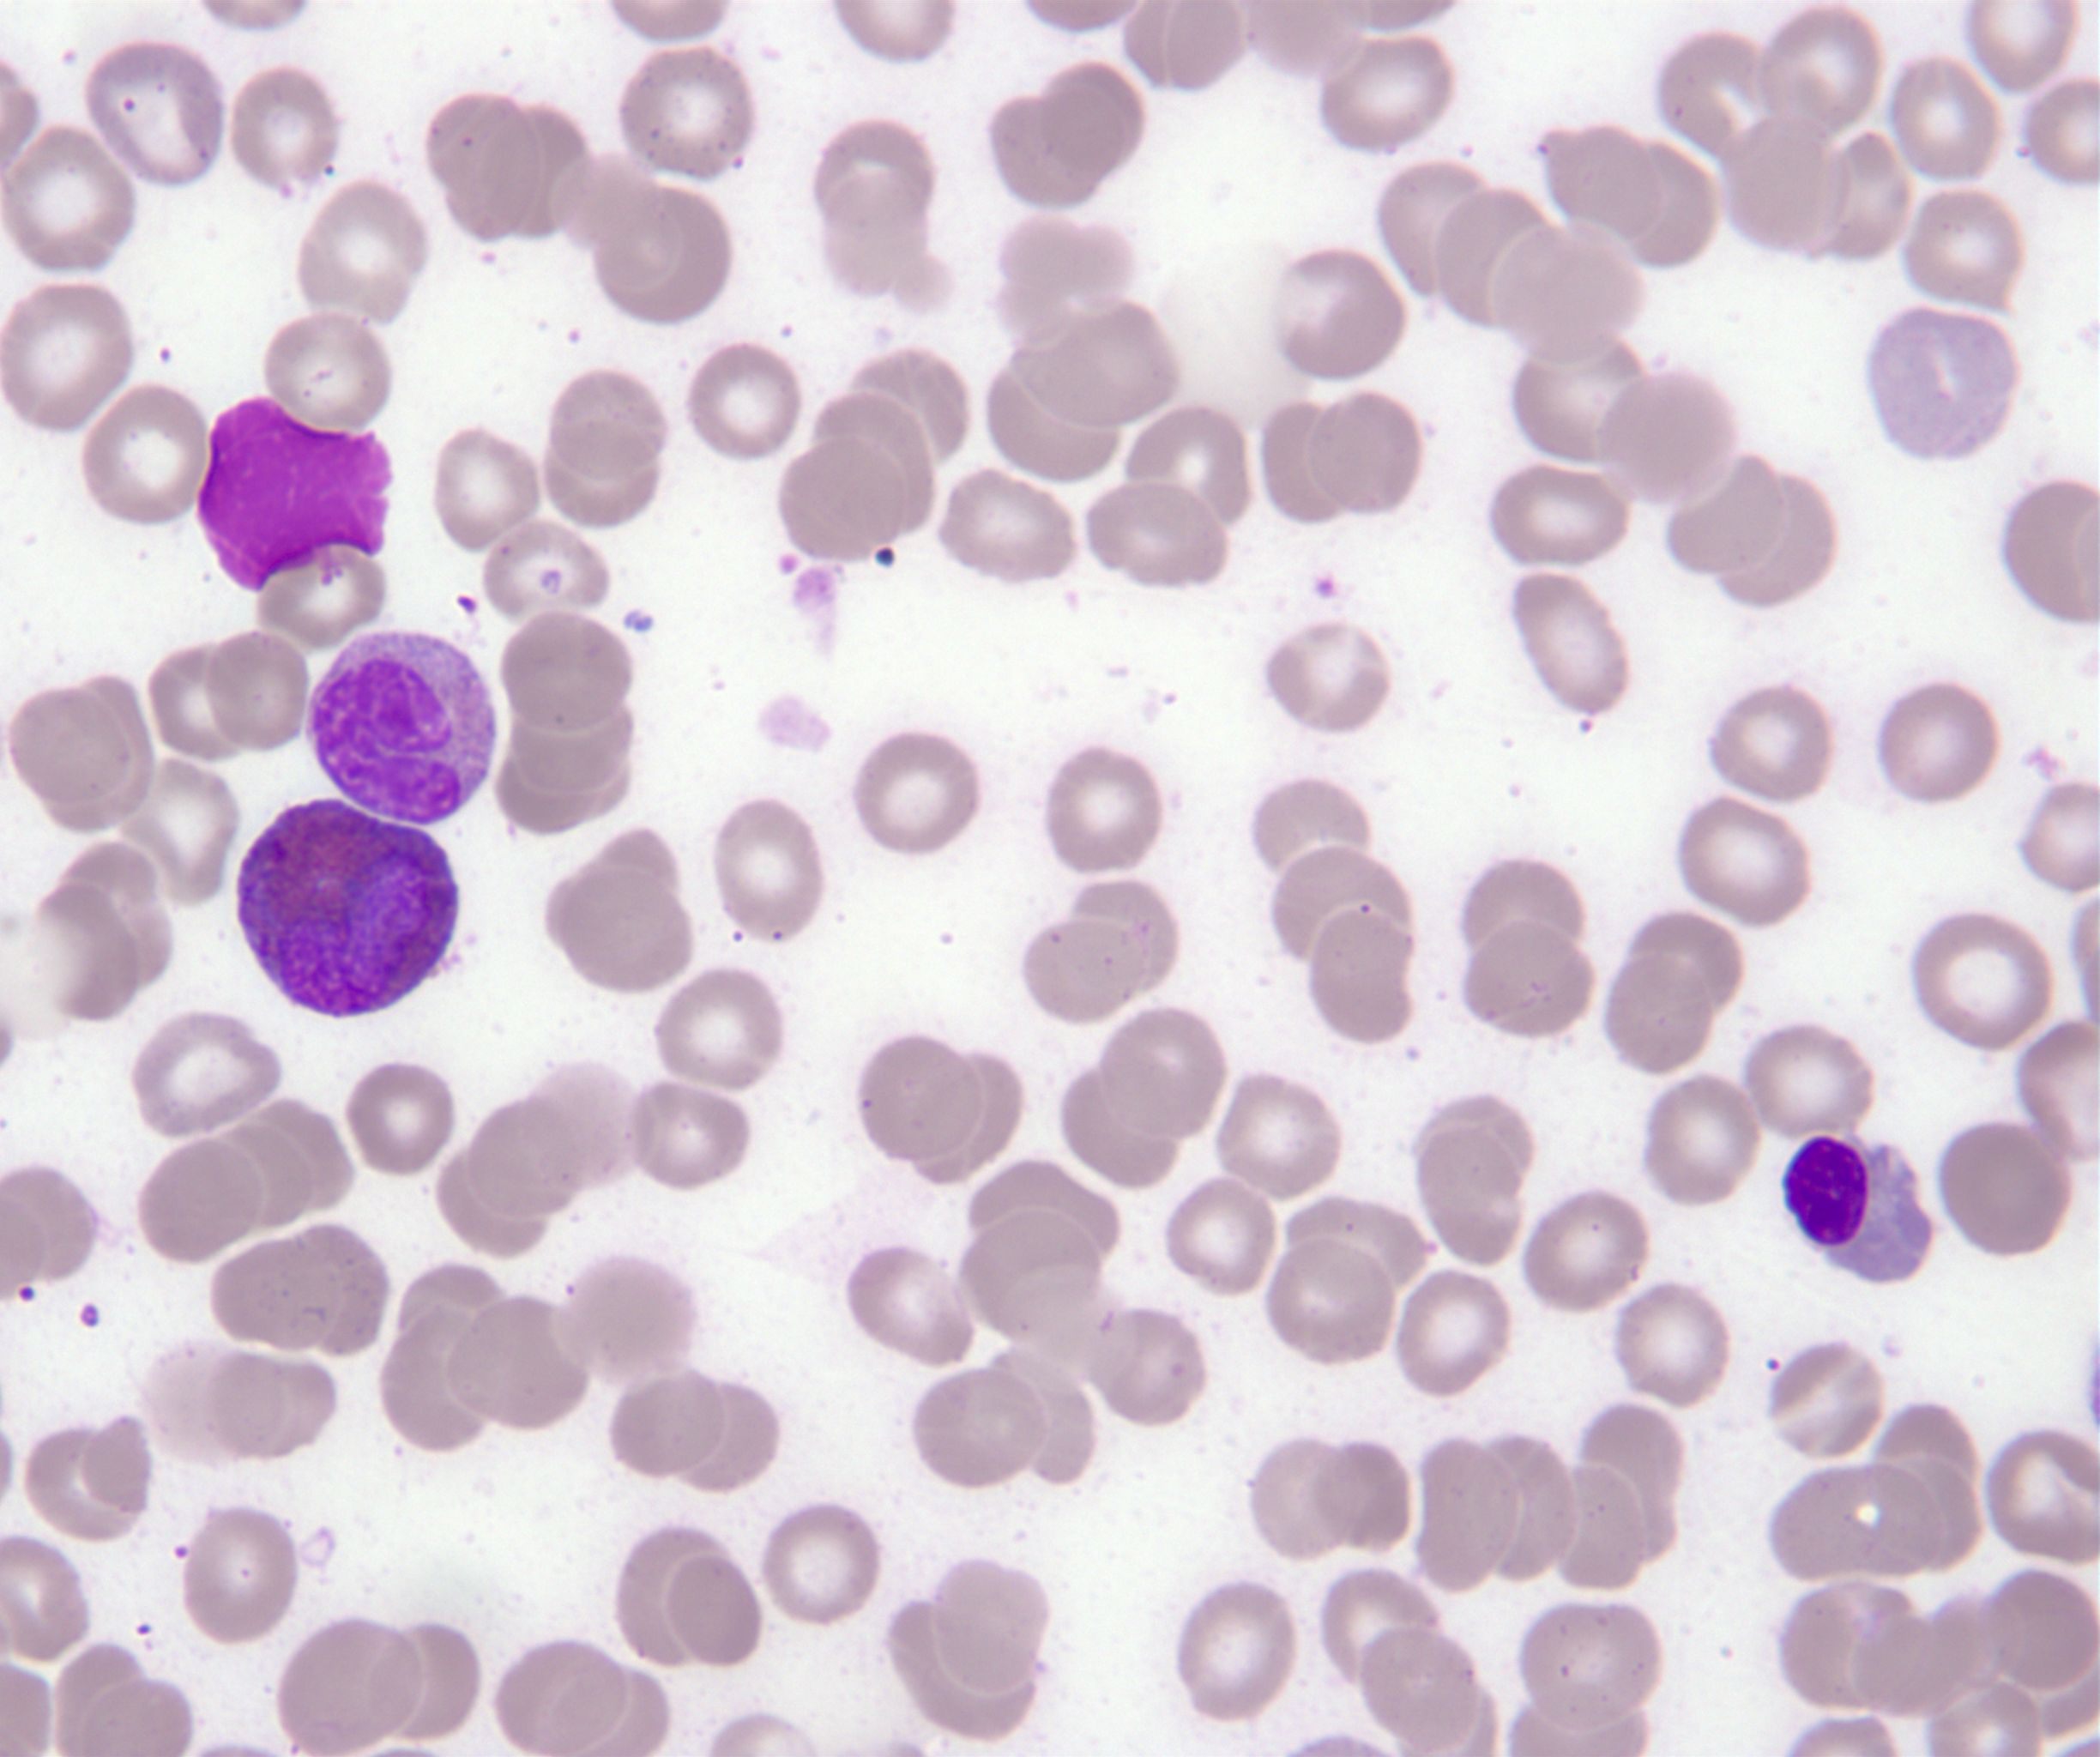24: (1784, 1138, 1933, 1282)
5: (309, 635, 497, 825)
E3: (239, 799, 459, 1017)
x: (197, 398, 392, 588)
